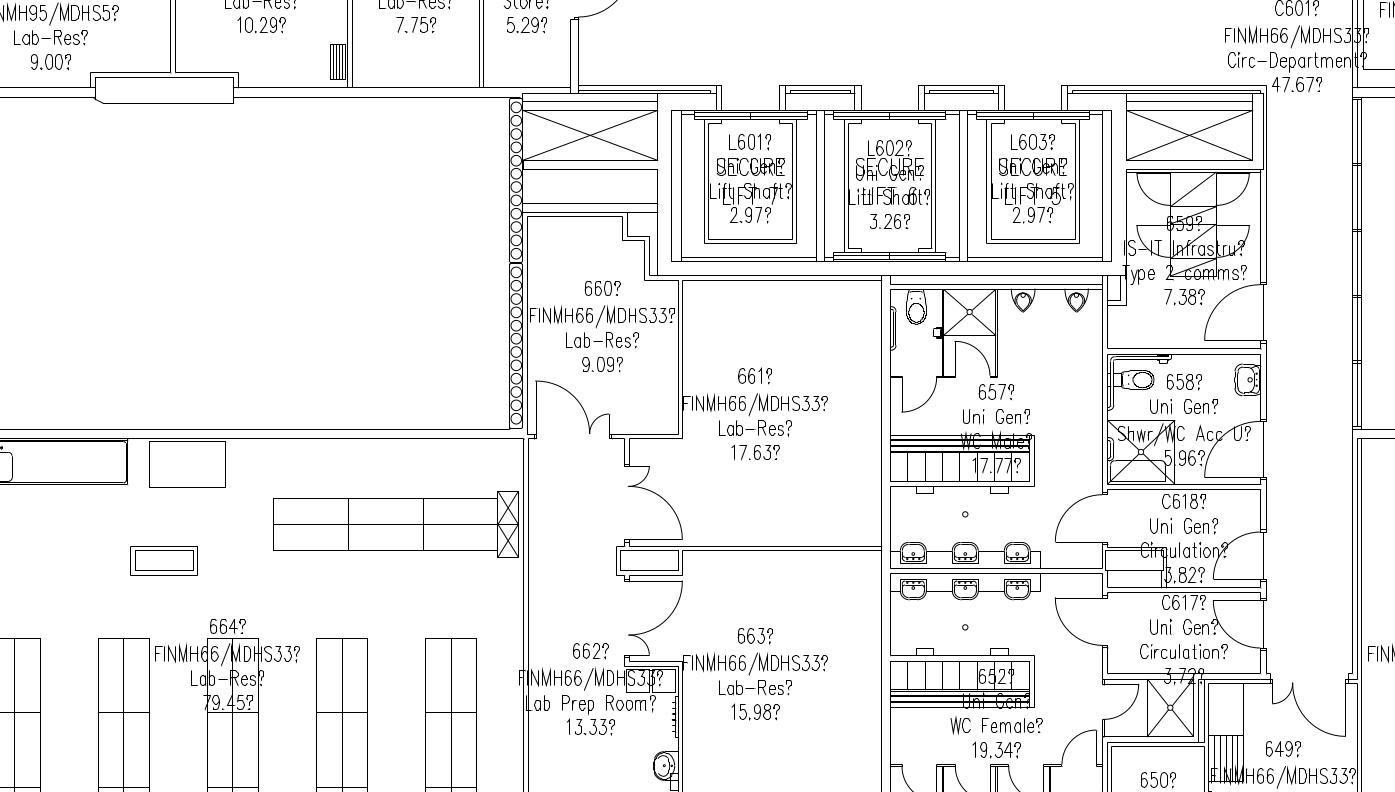door: (1269, 678, 1350, 745), (1196, 279, 1264, 344), (531, 373, 590, 442), (624, 486, 687, 544), (623, 579, 686, 637), (1208, 595, 1263, 654), (1204, 523, 1259, 582), (1053, 489, 1100, 551), (1054, 594, 1101, 656), (899, 374, 940, 418), (949, 338, 990, 382), (1058, 725, 1098, 767), (1131, 171, 1172, 209), (1212, 173, 1253, 211), (1101, 682, 1142, 720), (622, 458, 651, 490), (622, 628, 651, 660), (591, 406, 613, 441)
